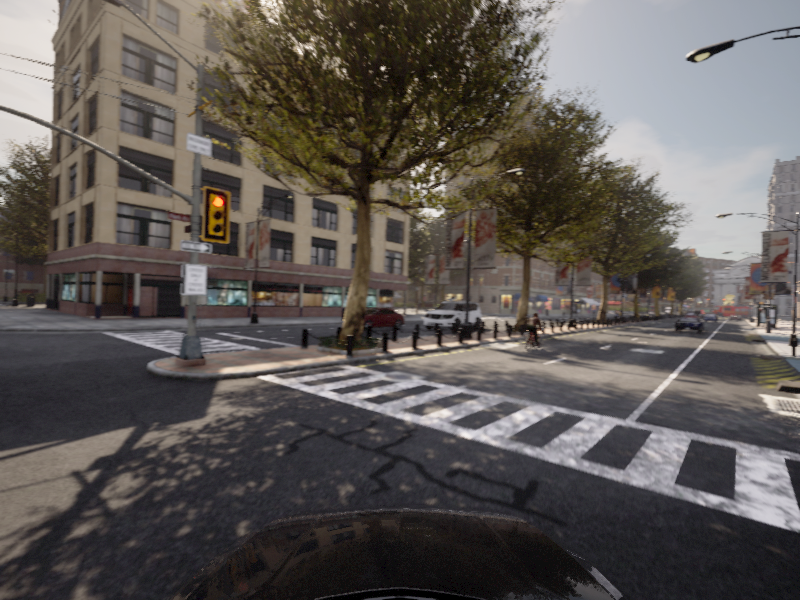vehicle: (420, 299, 485, 333), (339, 306, 409, 331), (518, 312, 548, 352), (673, 316, 704, 333)
